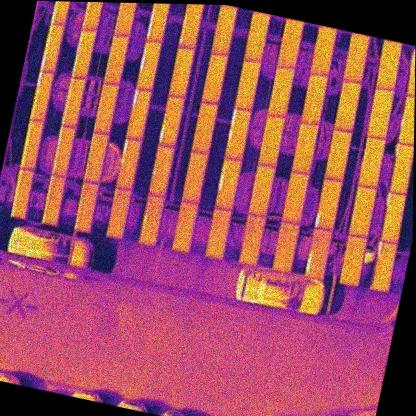Diode: (313, 177, 342, 232), (213, 157, 241, 211), (114, 138, 142, 192), (369, 240, 397, 294), (223, 108, 251, 161), (156, 96, 184, 149), (304, 227, 332, 280), (137, 194, 165, 247), (379, 190, 406, 244), (38, 22, 65, 76), (387, 142, 414, 195), (124, 89, 151, 142), (135, 39, 161, 92), (28, 71, 53, 123), (176, 4, 203, 52), (144, 3, 171, 44), (395, 93, 415, 146), (49, 1, 74, 28), (404, 45, 415, 98)
Hotspot: (148, 144, 174, 198)
Normal: (356, 135, 386, 190), (348, 184, 377, 239), (332, 79, 361, 134), (337, 235, 367, 287), (271, 221, 299, 276), (374, 39, 403, 92), (280, 171, 308, 225), (180, 151, 208, 205), (237, 213, 265, 267), (170, 200, 198, 254), (309, 24, 337, 78), (266, 64, 294, 118), (300, 73, 328, 127), (232, 58, 260, 112), (342, 32, 371, 84), (323, 129, 351, 182), (247, 164, 275, 217), (203, 208, 231, 261), (366, 88, 394, 141), (291, 122, 318, 176), (257, 114, 284, 168), (276, 17, 303, 71), (200, 52, 227, 106), (243, 10, 270, 63), (191, 102, 218, 154), (103, 33, 129, 87), (18, 119, 44, 172), (73, 180, 99, 233), (106, 187, 132, 240), (167, 46, 193, 99), (211, 5, 238, 56), (93, 81, 118, 136), (50, 126, 76, 178), (83, 130, 108, 184), (60, 76, 85, 129), (70, 28, 95, 81), (41, 174, 66, 226), (9, 168, 34, 220), (112, 3, 138, 38), (80, 2, 106, 32)
